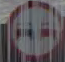No overtake: (4, 8, 58, 47)
